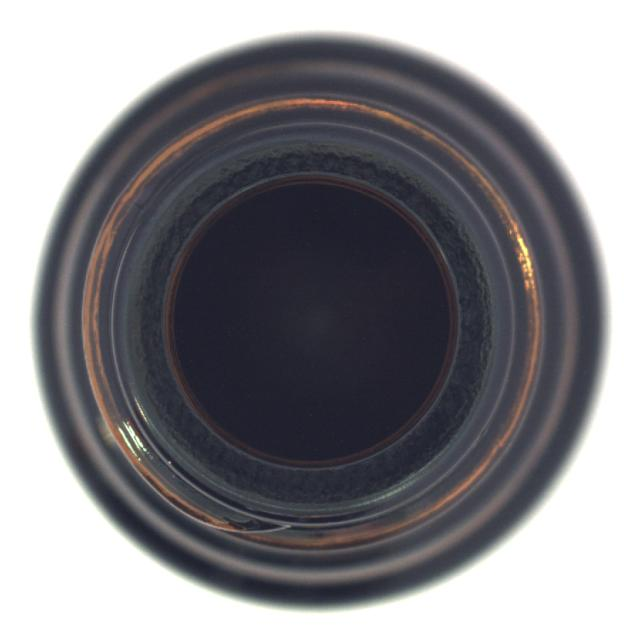bottle-good: (31, 33, 597, 608)
